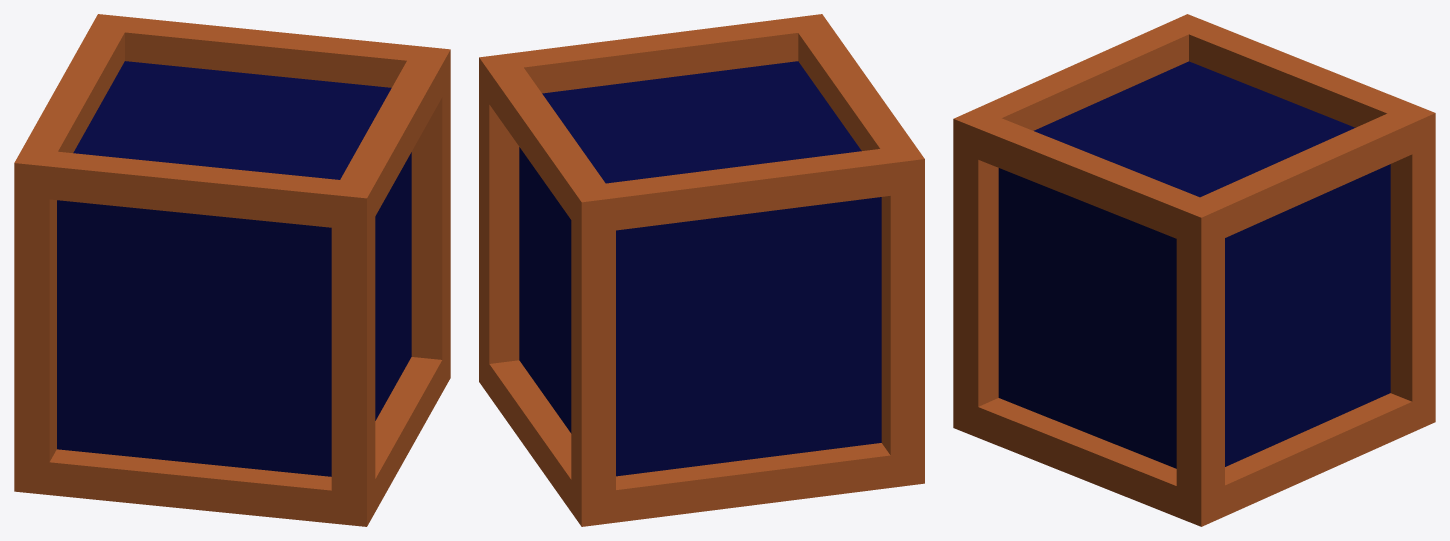
File: speelgoedblok.fbx
The picture shows the model from 3 angles, left to right: view 1: azimuth 30°, elevation 25°; view 2: azimuth 150°, elevation 25°; view 3: azimuth 270°, elevation 25°; orthographic projection. The views are drawn at different scales.
Parts seen in each view (by area): view 1: Speelgoed Blok; view 2: Speelgoed Blok; view 3: Speelgoed Blok.
Boxes of the visible parts, x1,y1,x2,y2 form: Speelgoed Blok: (14, 14, 450, 526); Speelgoed Blok: (479, 14, 924, 526); Speelgoed Blok: (953, 14, 1435, 526).
Size of the model in its own units: 14.14 by 10 by 14.14.
